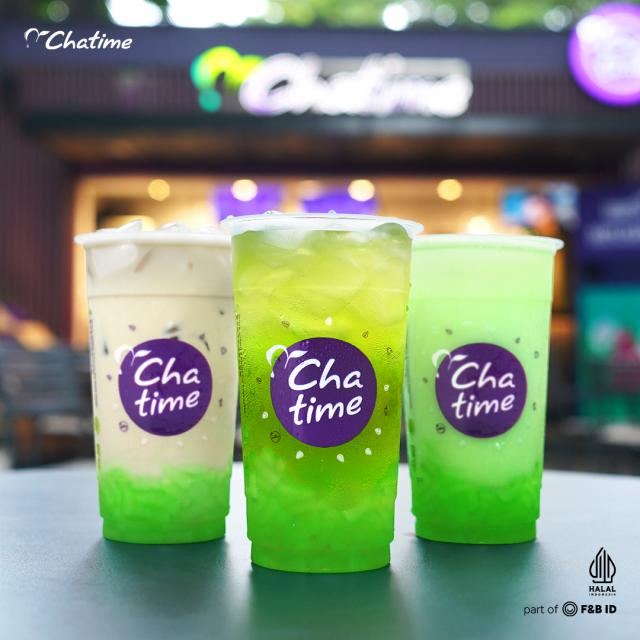chatime: (268, 338, 379, 449), (115, 339, 215, 438), (433, 343, 529, 440)
